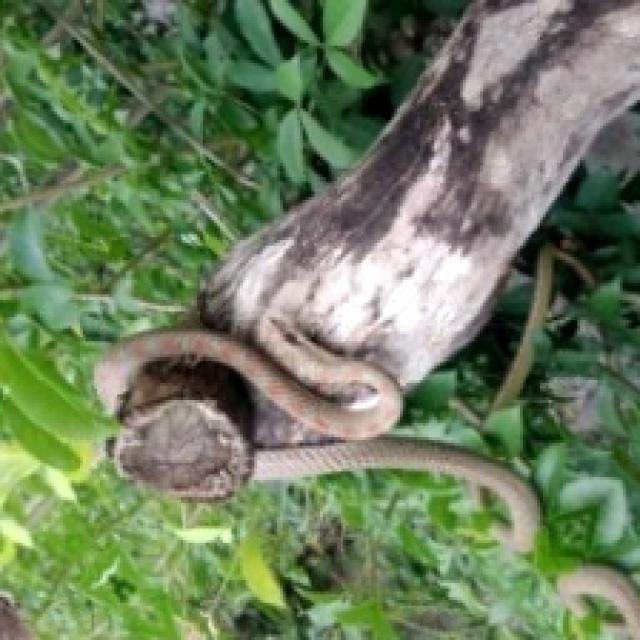paradise tree snake: (94, 0, 637, 549), (94, 320, 537, 549)
